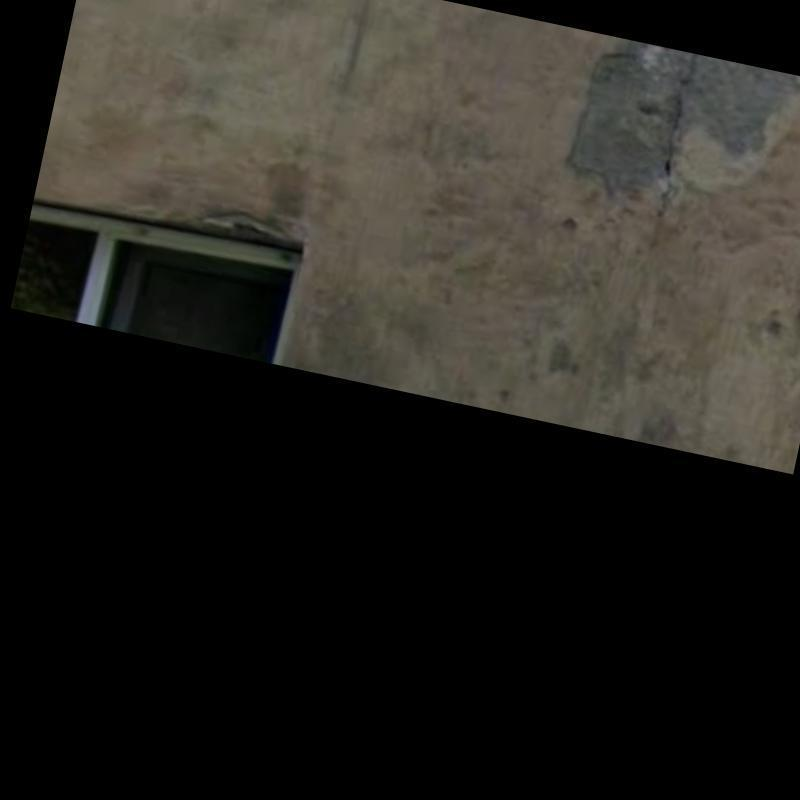pothole: (657, 53, 696, 217)
